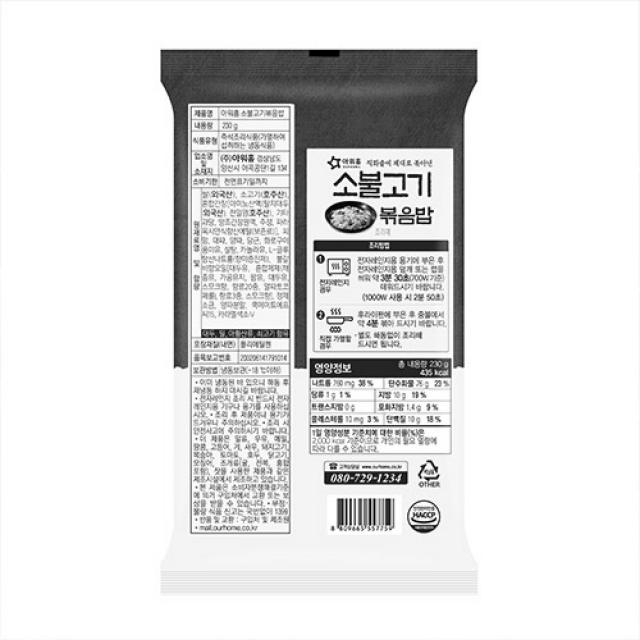Nutrition Label: (309, 350, 460, 468)
